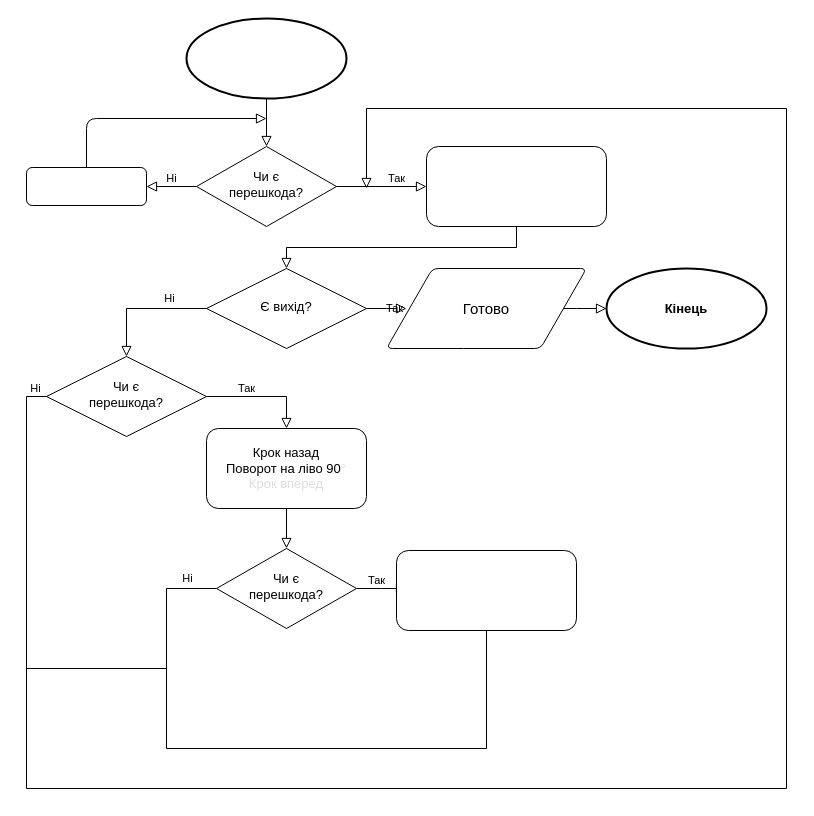
Some shapes in this 814 by 816 pixel diagram are drawn without their labels. Each missing label, with the centre of its shape:
Крок вперед: the point at 86,186
Крок назад Поворот на ліво на 90 °: the point at 486,590
Поворот на право на 90 ° Крок вперед: the point at 516,186
Початок: the point at 266,58
